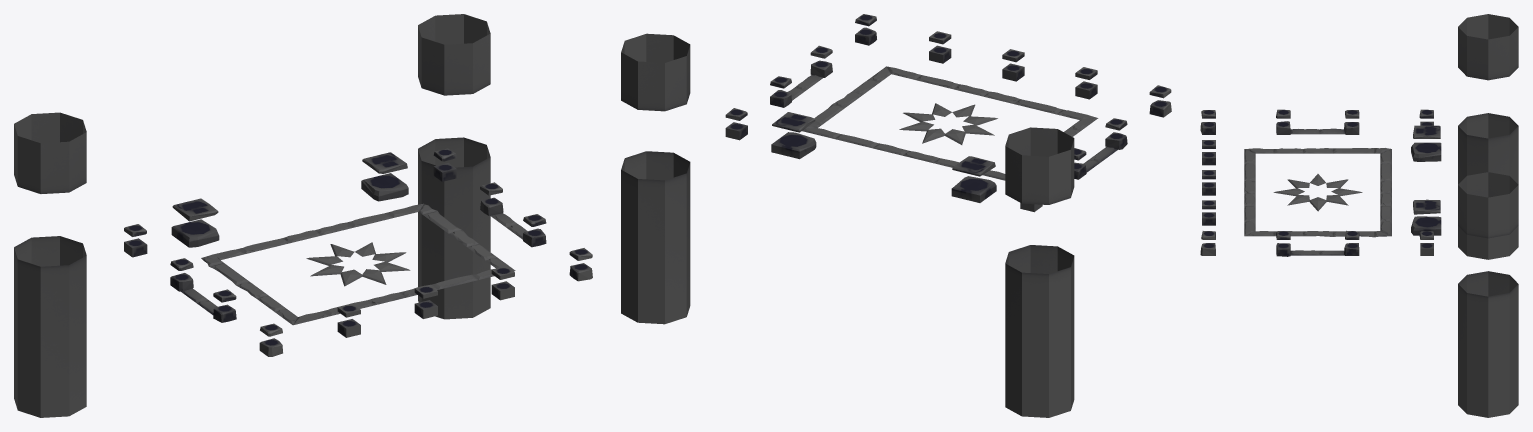
Rendered from Ground_02.FBX.
The picture shows the model from 3 angles, left to right: view 1: azimuth 30°, elevation 25°; view 2: azimuth 150°, elevation 25°; view 3: azimuth 270°, elevation 25°; orthographic projection. The views are drawn at different scales.
Parts seen in each view (by area): view 1: Ground_02; view 2: Ground_02; view 3: Ground_02.
Part boxes in pixels (left/top/right/bottom): Ground_02: left=14, top=14, right=592, bottom=417; Ground_02: left=621, top=14, right=1171, bottom=417; Ground_02: left=1200, top=14, right=1518, bottom=417.
Bounding box in the file's own units: 37.86 × 21.18 × 27.71.
